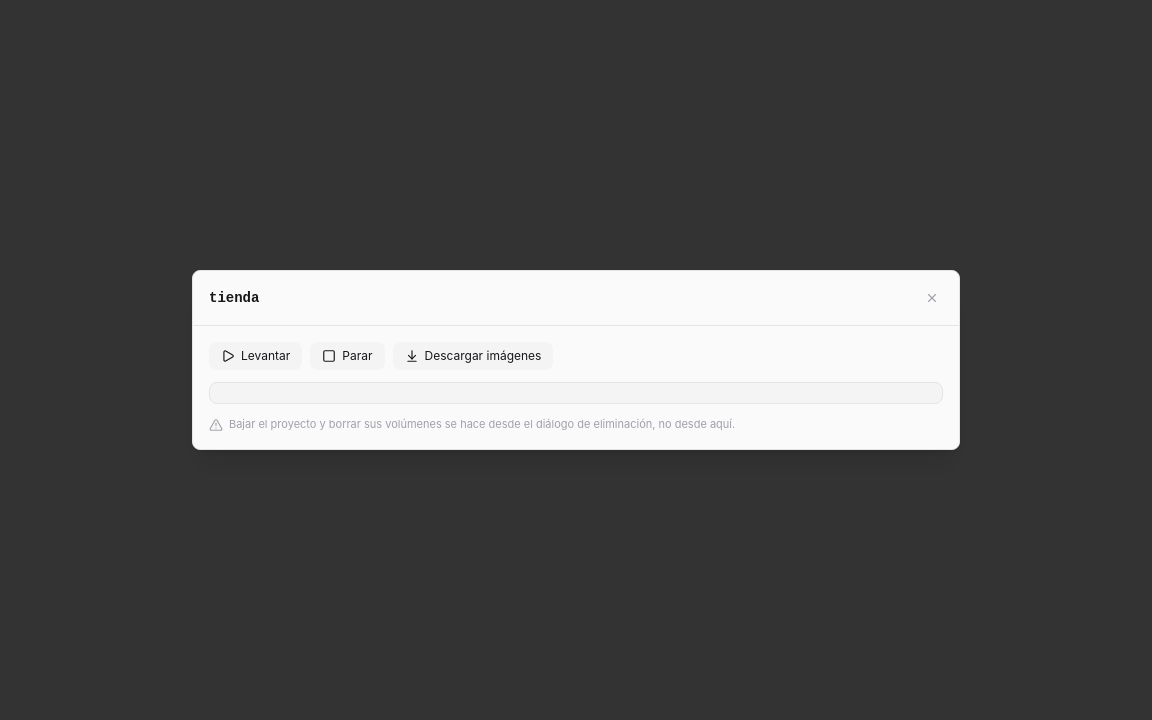
Scenario: ComposeActionPanel › un error del servidor se muestra como error
What coordinates should you click on to do the following:
click the button "Levantar"
I would click on:
 (256, 356)
Its box is [209,342,302,370].
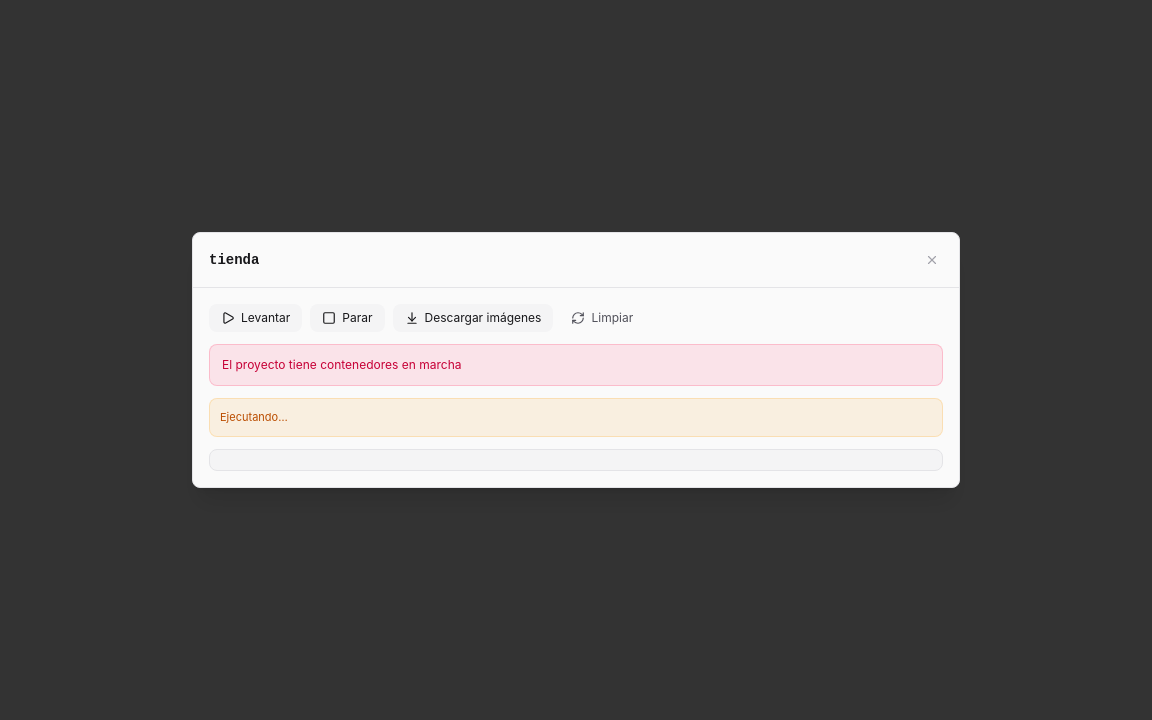
expect the message with test id "compose-error" shows "en marcha": met, box [222,357,462,372]
